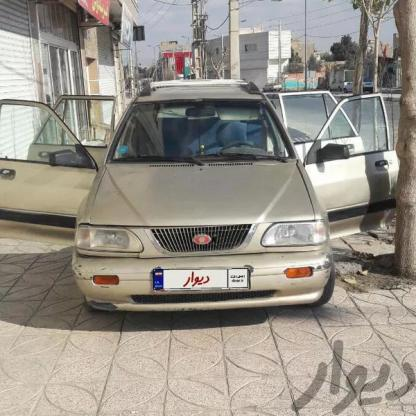Car: (70, 78, 342, 321)
